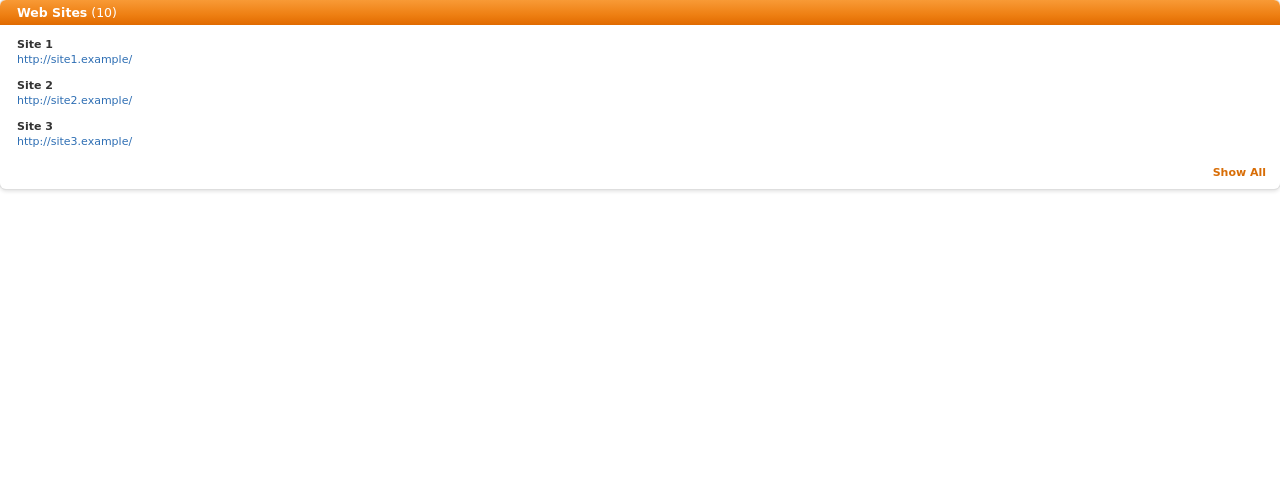
Scenario: Web Sites panel › shows three links and the rest on request (VM)
Expected: the number of links "Site 1" is 3, top-left (17, 38), bottom-right (53, 51); top-left (17, 79), bottom-right (53, 92); top-left (17, 120), bottom-right (53, 133)
Click the button "Show All": (1239, 173) top-left (1213, 166), bottom-right (1266, 179)
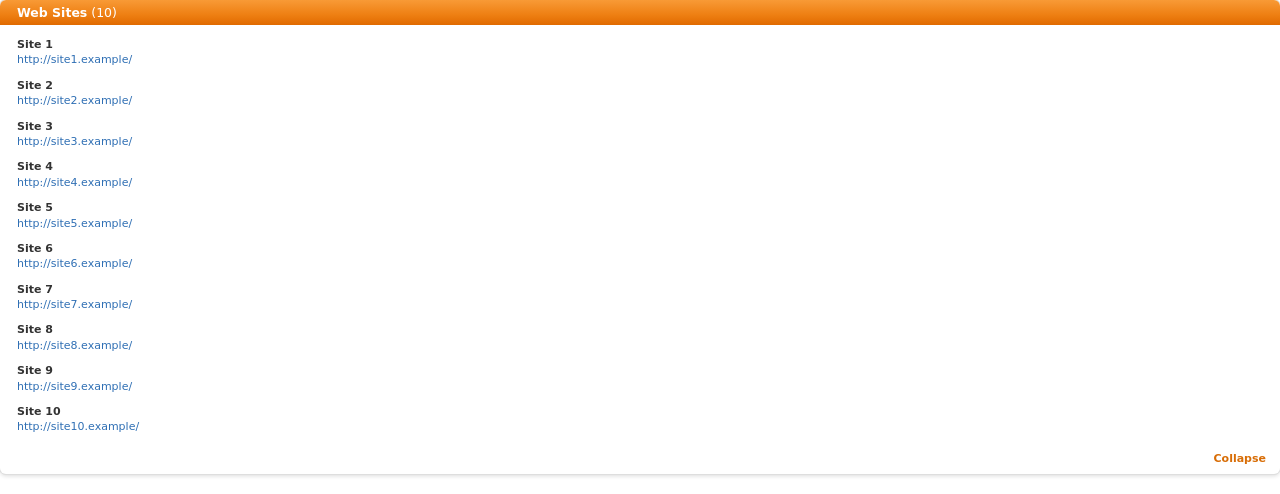
Now the number of links "Site 1" is 10
